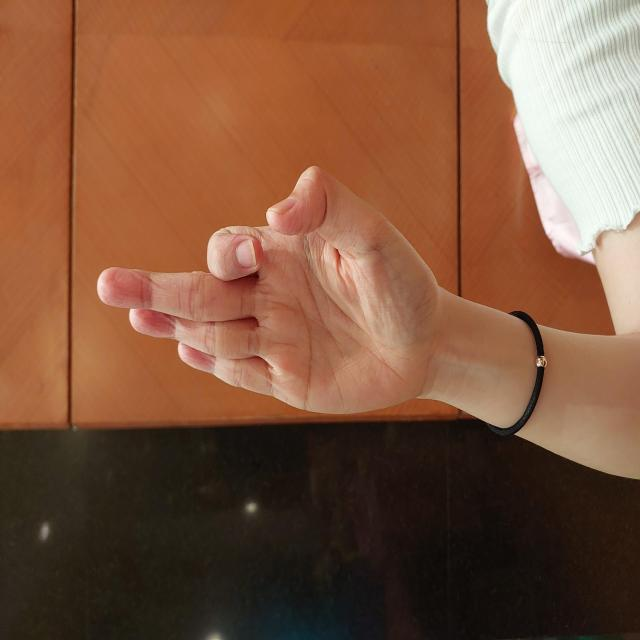F: (225, 95, 476, 436)
